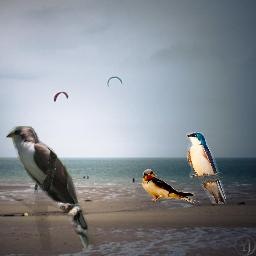Cuckoo: (5, 126, 99, 250)
Swallow: (186, 132, 226, 204), (141, 169, 201, 205)
